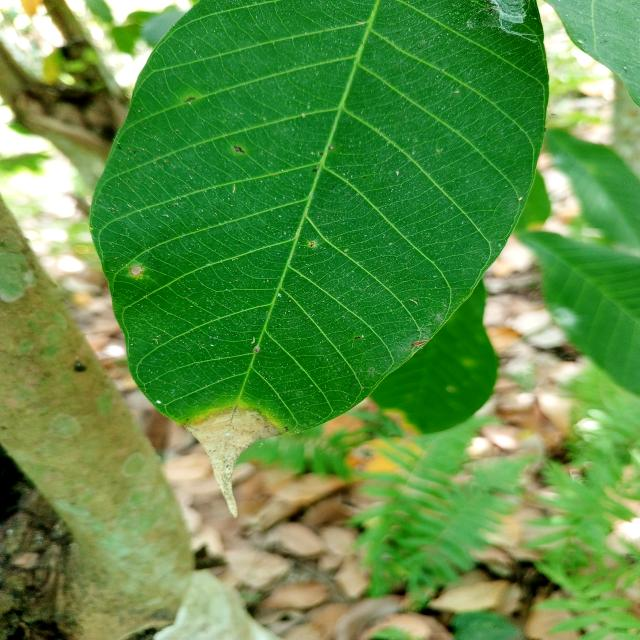Colletotrichum: (354, 336, 360, 339), (310, 242, 315, 245)
Leaf-Blight: (182, 406, 282, 518)
